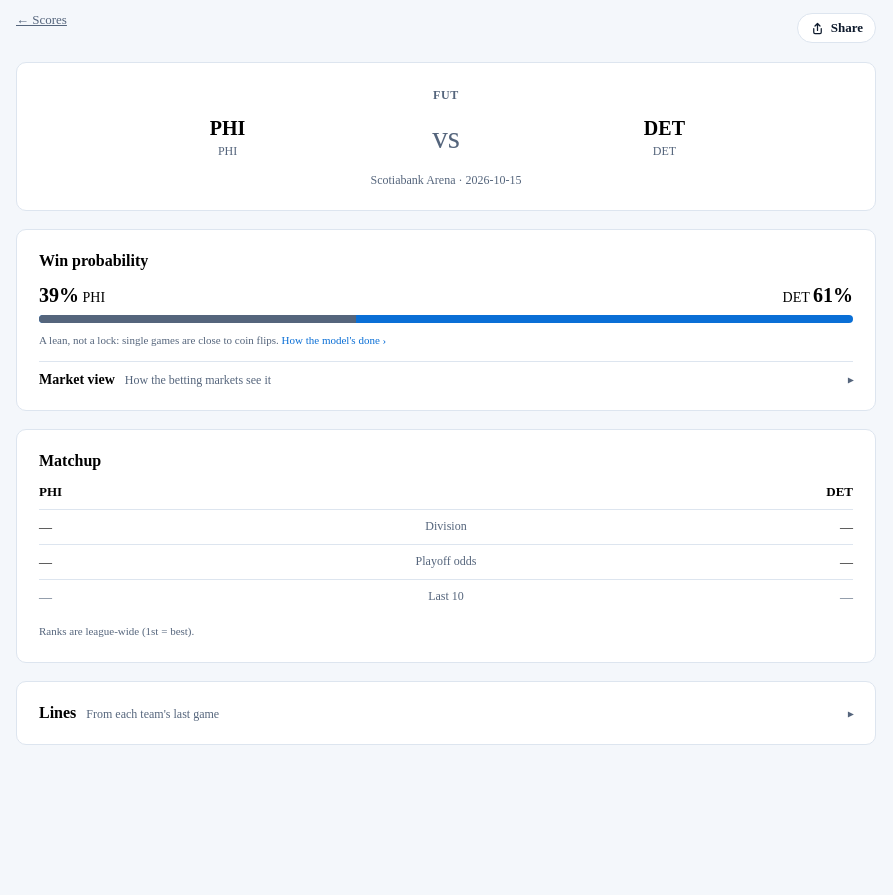
GamePage › Market view compares the model with the sportsbooks, only when opened
Expected: the picture named "PHI 39% chance to win, DET 61%" is shown, [39,315,853,323]
Click the text "How the betting markets see it". click: (198, 380)
box: [125,373,271,388]
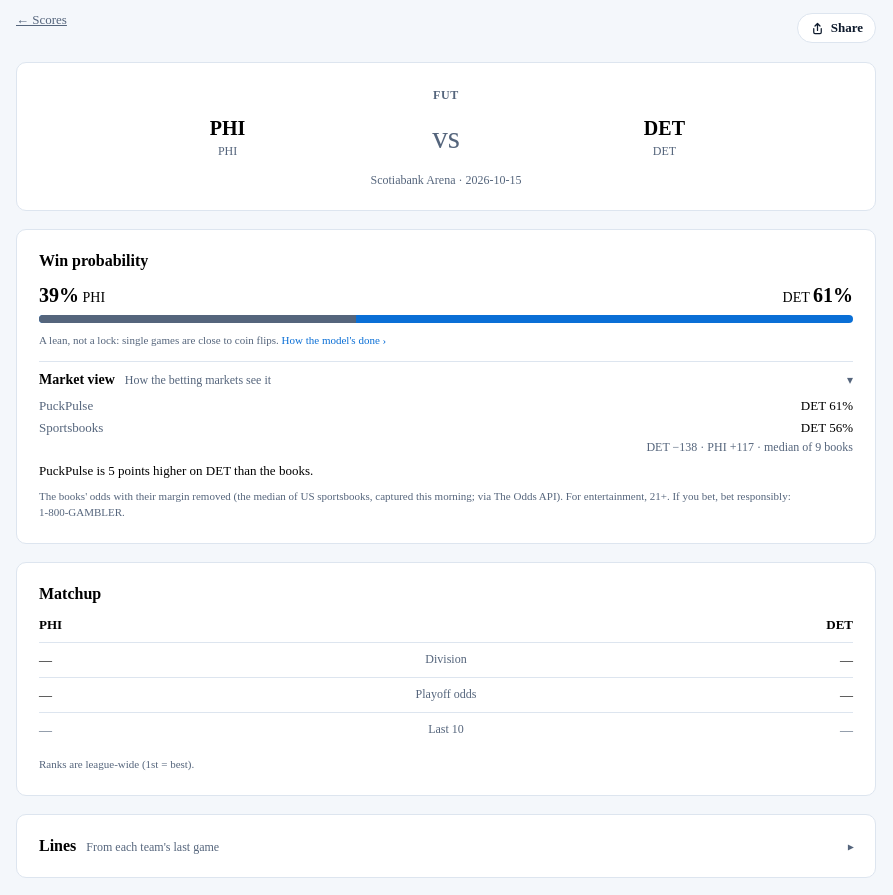
Result: the text "DET 61%" is shown at [801,398,853,414]
Result: the text "DET 56%" is shown at [801,420,853,436]
Result: the text "DET −138 · PHI +117 · median of 9 books" is shown at [646,440,853,454]
